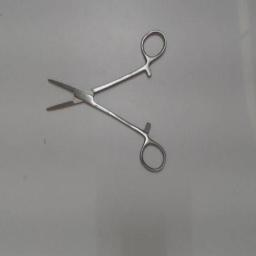Mayo Needle Holder: (42, 25, 170, 177)
